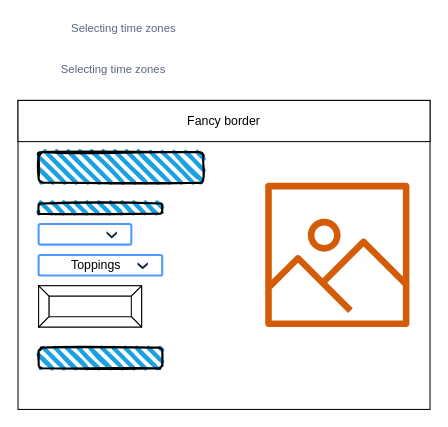
This 448x427 diagram has some shape labels left out. Each missing label, with the centre of its shape:
Calculate: point (90, 306)
Size: point (84, 233)
